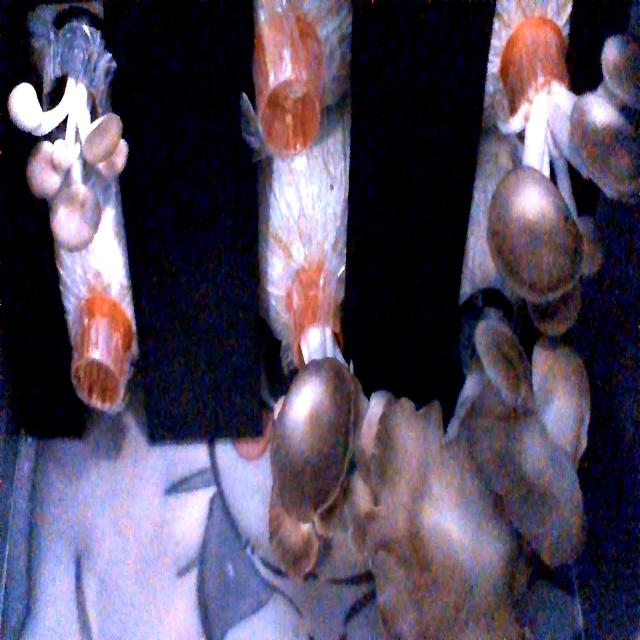big: (360, 343, 617, 640), (479, 27, 640, 313), (265, 360, 422, 599)
nfound: (62, 340, 160, 430), (248, 76, 339, 167)
small: (2, 58, 142, 248)
